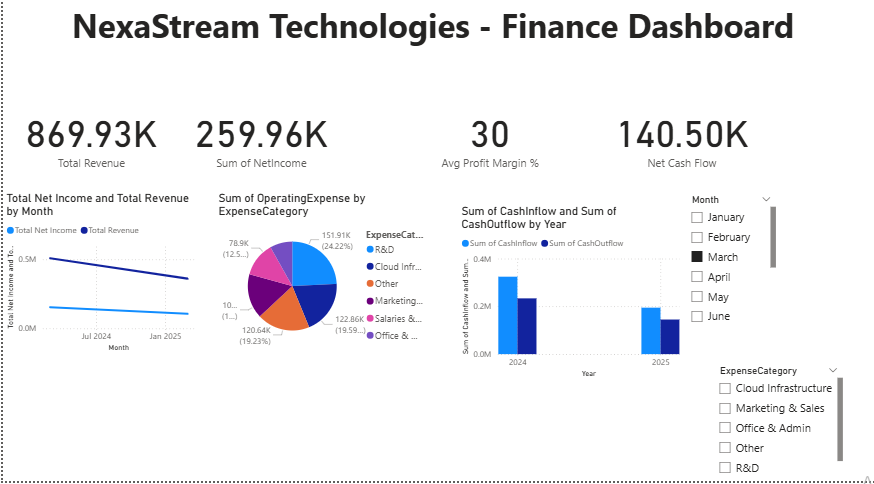

Layout of this report page (visuals, bound fields, positions):
{"tool":"powerbi","page":{"name":"Finance Dashboard","canvas":[1280,720],"ordinal":1},"visuals":[{"type":"card","fields":{"Values":["Finance_Data.Total Revenue"]},"box":[10.1,136.1,238.5,159.6],"z":0},{"type":"card","fields":{"Values":["Sum(Finance_Data.NetIncome)"]},"box":[248.6,136.1,258.7,159.6],"z":1},{"type":"card","fields":{"Values":["Finance_Data.Net Cash Flow"]},"box":[863.4,136.1,260.4,159.6],"z":3},{"type":"card","fields":{"Values":["Finance_Data.Avg Profit Margin %"]},"box":[586.2,136.1,252,159.6],"z":4},{"type":"lineChart","fields":{"Y":["Finance_Data.Total Net Income","Finance_Data.Total Revenue"],"Category":["Finance_Data.Month"]},"box":[0,295.6,299,240.2],"z":5},{"type":"pieChart","fields":{"Category":["Finance_Data.ExpenseCategory"],"Y":["Sum(Finance_Data.OperatingExpense)"]},"box":[310.8,295.6,319.2,240.2],"z":6},{"type":"clusteredColumnChart","fields":{"Category":["Finance_Data.Month.Variation.Date Hierarchy.Year","Finance_Data.Month.Variation.Date Hierarchy.Quarter","Finance_Data.Month.Variation.Date Hierarchy.Month","Finance_Data.Month.Variation.Date Hierarchy.Day"],"Y":["Sum(Finance_Data.CashInflow)","Sum(Finance_Data.CashOutflow)"]},"box":[665.2,314.1,329.2,258.7],"z":7},{"type":"slicer","fields":{"Values":["Finance_Data.Month.Variation.Date Hierarchy.Month"]},"box":[994.4,295.6,141.1,204.9],"z":8},{"type":"textbox","box":[10.1,15.1,1238,149.5],"z":9},{"type":"slicer","fields":{"Values":["Finance_Data.ExpenseCategory"]},"box":[1036.1,545.9,197.6,174.1],"z":10}]}

Visuals, with their boxes in screenshot pixels (x1, y1, x2, y2), scaled from the page's 1280x720 canvas onto the 874x484 screenshot:
card - Finance_Data.Total Revenue: crop(7, 91, 170, 199)
card - Sum(Finance_Data.NetIncome): crop(170, 91, 346, 199)
card - Finance_Data.Net Cash Flow: crop(590, 91, 767, 199)
card - Finance_Data.Avg Profit Margin %: crop(400, 91, 572, 199)
lineChart - Finance_Data.Total Net Income x Finance_Data.Total Revenue: crop(0, 199, 204, 360)
pieChart - Finance_Data.ExpenseCategory x Sum(Finance_Data.OperatingExpense): crop(212, 199, 430, 360)
clusteredColumnChart - Finance_Data.Month.Variation.Date Hierarchy.Year x Finance_Data.Month.Variation.Date Hierarchy.Quarter: crop(454, 211, 679, 385)
slicer - Finance_Data.Month.Variation.Date Hierarchy.Month: crop(679, 199, 775, 336)
textbox: crop(7, 10, 852, 111)
slicer - Finance_Data.ExpenseCategory: crop(707, 367, 842, 483)
